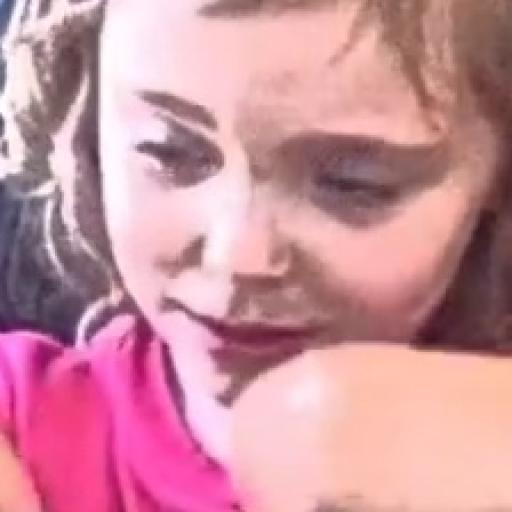Autism: (76, 0, 512, 489)
